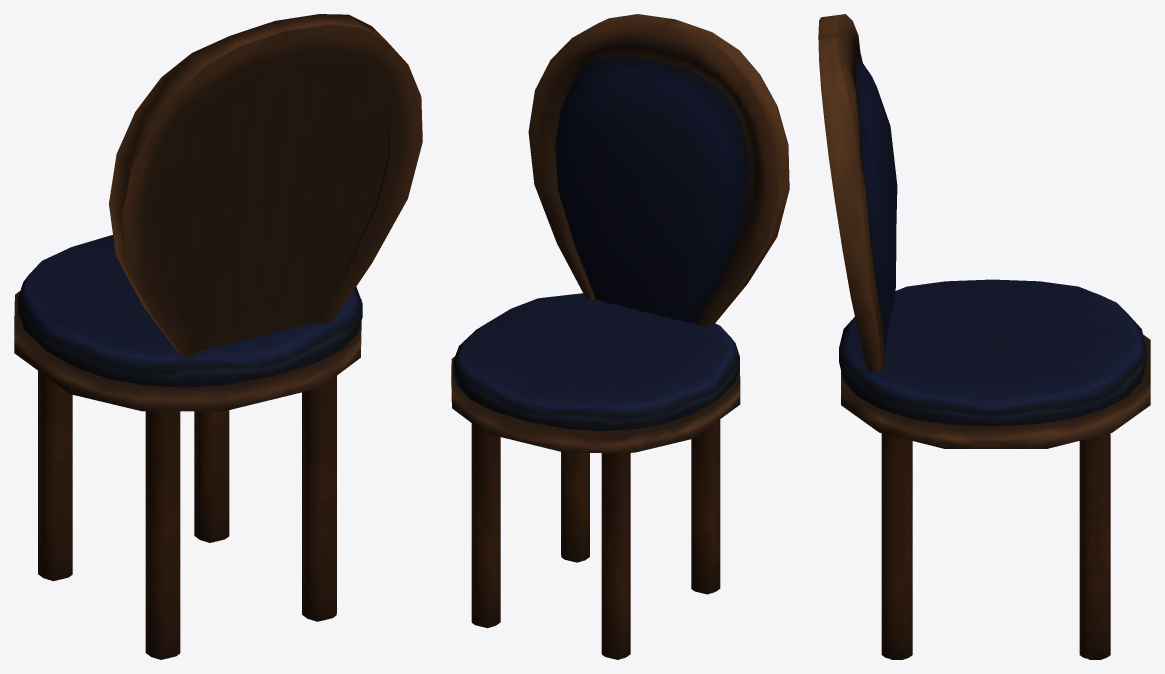
The model's file is Chair_I.fbx.
3 renders of one model, left to right at view 1: azimuth 30°, elevation 25°; view 2: azimuth 150°, elevation 25°; view 3: azimuth 270°, elevation 25°, orthographic. The views are drawn at different scales.
Visible parts, largest first — view 1: Chair_Backing_A1, Chair_Legs_B, Chair_Cushion_Base_B, Chair_Base_B; view 2: Chair_Backing_A1, Chair_Cushion_Base_B, Chair_Legs_B, Chair_Base_B; view 3: Chair_Cushion_Base_B, Chair_Backing_A1, Chair_Legs_B, Chair_Base_B.
Part boxes in pixels (x1,y1,x2,y2): Chair_Backing_A1: [109, 14, 422, 357]; Chair_Legs_B: [38, 371, 336, 659]; Chair_Cushion_Base_B: [18, 235, 362, 387]; Chair_Base_B: [14, 291, 361, 411]; Chair_Backing_A1: [528, 14, 789, 326]; Chair_Cushion_Base_B: [453, 293, 739, 431]; Chair_Legs_B: [471, 419, 720, 659]; Chair_Base_B: [451, 356, 740, 452]; Chair_Cushion_Base_B: [839, 279, 1146, 426]; Chair_Backing_A1: [818, 14, 897, 372]; Chair_Legs_B: [881, 433, 1110, 659]; Chair_Base_B: [841, 334, 1150, 448].
Size of the model in its own units: 5.84 by 11.86 by 6.07.
